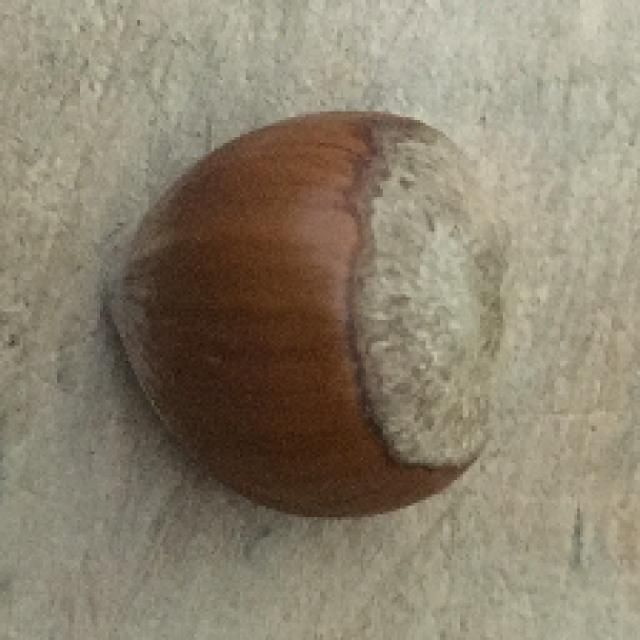qualityHazelnut: (94, 102, 508, 522)
